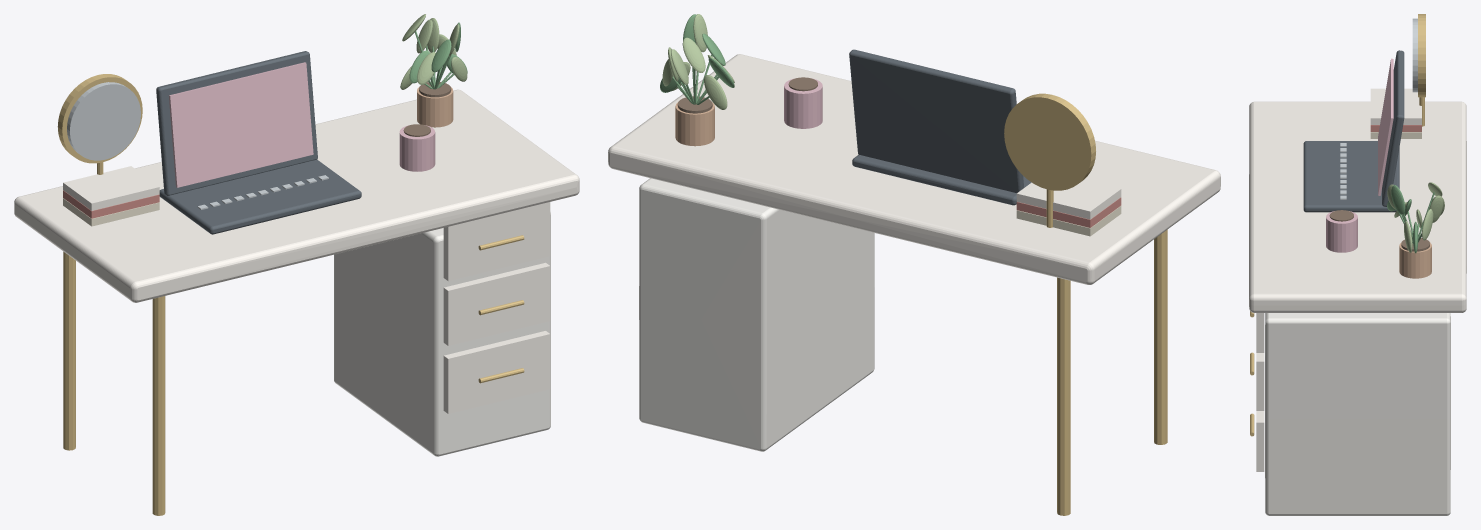
File: Desk_01.glb
The picture shows the model from 3 angles, left to right: view 1: azimuth 30°, elevation 25°; view 2: azimuth 150°, elevation 25°; view 3: azimuth 270°, elevation 25°; orthographic projection. The views are drawn at different scales.
Parts seen in each view (by area): view 1: desktop_1, drawer_pedestal_2, laptop_screen_13, laptop_keyboard_11, desk_drawer_3, desk_drawer_5, desk_drawer_7, vanity_mirror_54, laptop_lid_12, rod_10, notebook_58, rod_9 (+5 smaller); view 2: drawer_pedestal_2, desktop_1, laptop_lid_12, vanity_mirror_frame_53, rod_9, rod_10, notebook_58, laptop_keyboard_11, coffee_mug_25, terracotta_pot_27, notebook_56, notebook_57; view 3: drawer_pedestal_2, desktop_1, laptop_keyboard_11, laptop_lid_12, laptop_screen_13, notebook_58, coffee_mug_25, terracotta_pot_27, vanity_mirror_frame_53, desk_drawer_3, desk_drawer_5, vanity_mirror_54 (+2 smaller).
Part boxes in pixels (left/top/right/bottom): desktop_1: left=14, top=89, right=579, bottom=302; drawer_pedestal_2: left=334, top=212, right=550, bottom=456; laptop_screen_13: left=168, top=62, right=313, bottom=187; laptop_keyboard_11: left=159, top=159, right=361, bottom=234; desk_drawer_3: left=443, top=331, right=550, bottom=413; desk_drawer_5: left=443, top=262, right=550, bottom=345; desk_drawer_7: left=443, top=202, right=550, bottom=280; vanity_mirror_54: left=67, top=82, right=140, bottom=160; laptop_lid_12: left=156, top=51, right=317, bottom=195; rod_10: left=152, top=296, right=165, bottom=515; notebook_58: left=63, top=166, right=159, bottom=210; rod_9: left=63, top=251, right=75, bottom=450; drawer_pedestal_2: left=639, top=178, right=874, bottom=451; desktop_1: left=608, top=54, right=1220, bottom=284; laptop_lid_12: left=849, top=49, right=1024, bottom=193; vanity_mirror_frame_53: left=1004, top=93, right=1095, bottom=190; rod_9: left=1057, top=277, right=1070, bottom=515; rod_10: left=1154, top=229, right=1167, bottom=444; notebook_58: left=1016, top=180, right=1121, bottom=219; laptop_keyboard_11: left=852, top=155, right=1031, bottom=205; coffee_mug_25: left=784, top=78, right=822, bottom=128; terracotta_pot_27: left=675, top=102, right=714, bottom=146; notebook_56: left=1016, top=206, right=1121, bottom=236; notebook_57: left=1016, top=197, right=1121, bottom=227; drawer_pedestal_2: left=1265, top=313, right=1450, bottom=515; desktop_1: left=1249, top=101, right=1466, bottom=312; laptop_keyboard_11: left=1303, top=141, right=1399, bottom=212; laptop_lid_12: left=1382, top=50, right=1404, bottom=206; laptop_screen_13: left=1378, top=58, right=1393, bottom=195; notebook_58: left=1370, top=88, right=1421, bottom=124; coffee_mug_25: left=1326, top=211, right=1357, bottom=252; terracotta_pot_27: left=1399, top=242, right=1431, bottom=278; vanity_mirror_frame_53: left=1418, top=14, right=1425, bottom=97; desk_drawer_3: left=1256, top=411, right=1264, bottom=471; desk_drawer_5: left=1256, top=353, right=1264, bottom=410; vanity_mirror_54: left=1412, top=18, right=1417, bottom=92.
Bounding box in the file's own units: 1.45 × 1.17 × 0.68.
